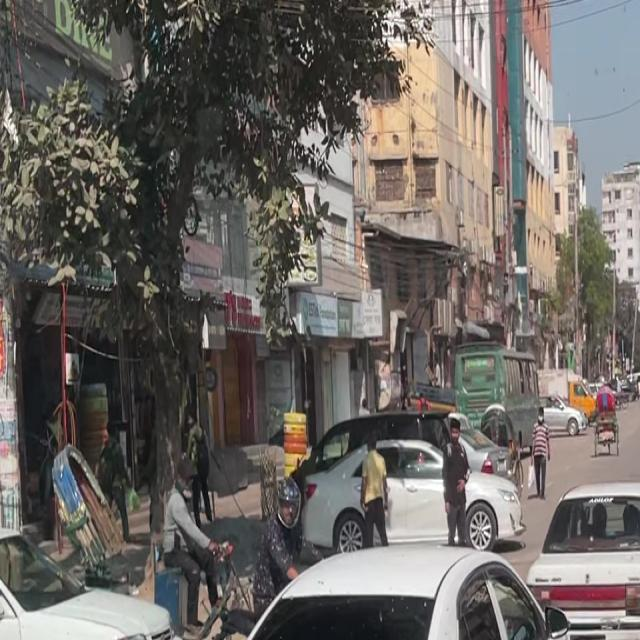car: (154, 528, 579, 640), (519, 470, 639, 640), (0, 539, 187, 640), (458, 466, 530, 558), (489, 624, 639, 640)
